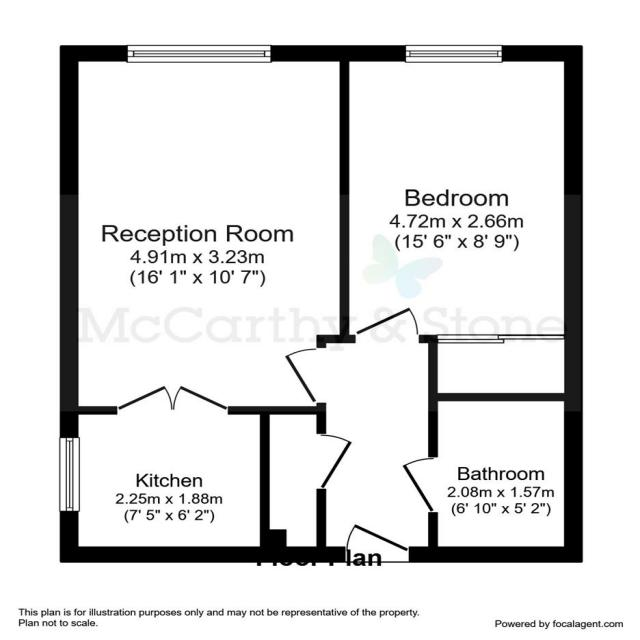DOOR: (343, 520, 413, 564), (280, 344, 328, 405), (352, 304, 423, 345), (314, 430, 357, 492), (398, 454, 441, 514)
DOUBLE DOOR: (117, 384, 229, 413)
ROOM: (58, 44, 350, 416), (339, 44, 584, 345), (59, 385, 287, 563)
WINDOW: (125, 43, 274, 65), (403, 44, 506, 65), (57, 435, 82, 513)
